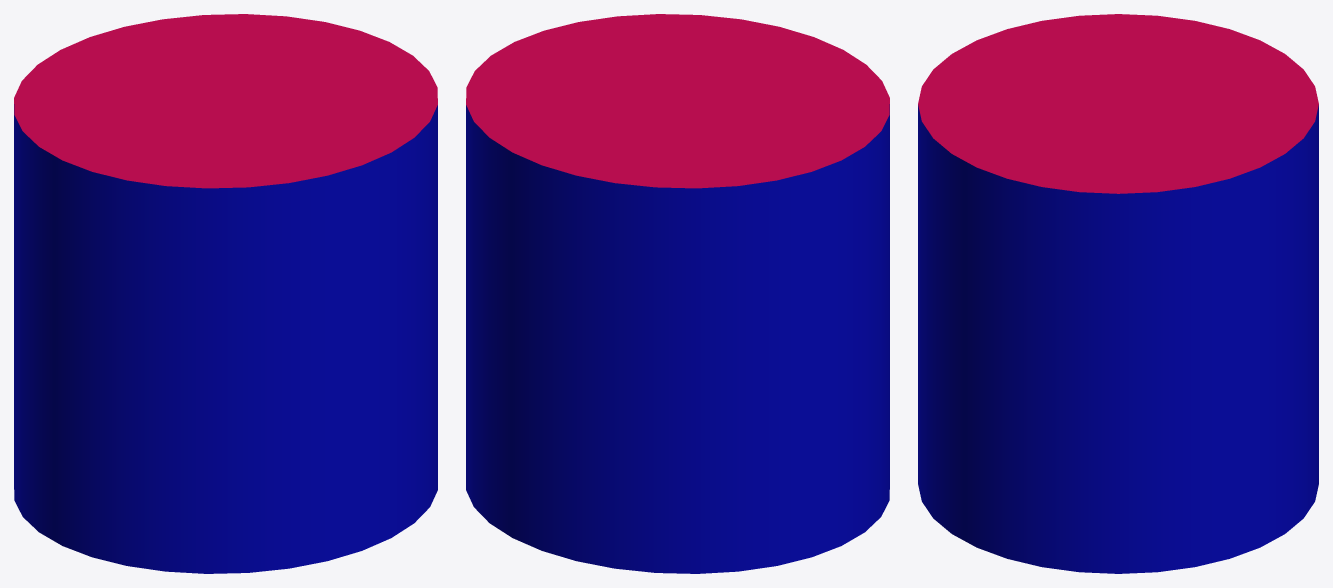
File: portal.fbx
3 views of the same model, side by side, from view 1: azimuth 30°, elevation 25°; view 2: azimuth 150°, elevation 25°; view 3: azimuth 270°, elevation 25° (orthographic).
Visible parts, largest first — view 1: 실린더; view 2: 실린더; view 3: 실린더.
Part boxes in pixels (<box>): 실린더: <box>14,14,437,573</box>; 실린더: <box>466,14,889,573</box>; 실린더: <box>918,14,1318,573</box>.
Bounding box in the file's own units: 80.5 × 79.31 × 75.83.
